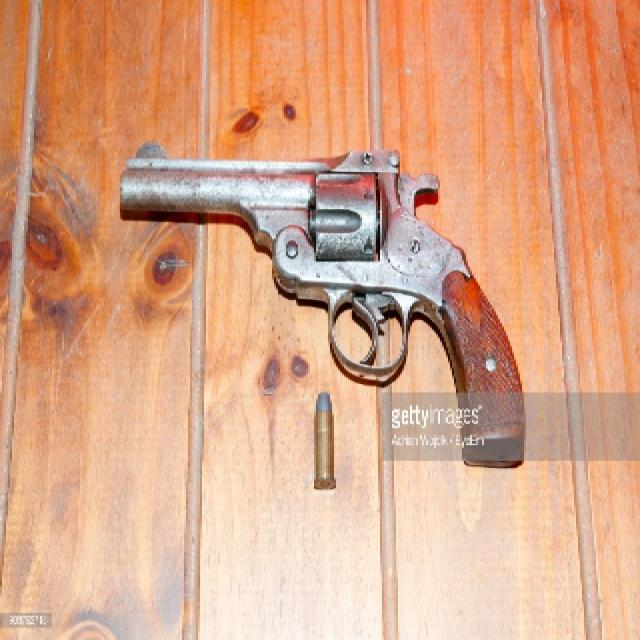handgun: (117, 136, 533, 469)
